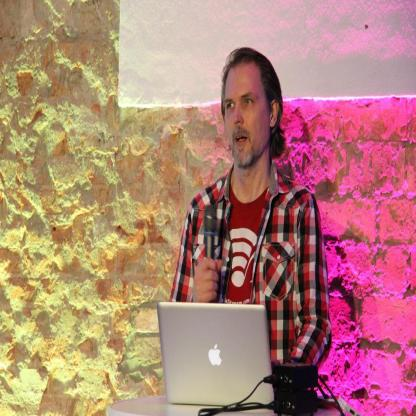board: (157, 304, 279, 411)
